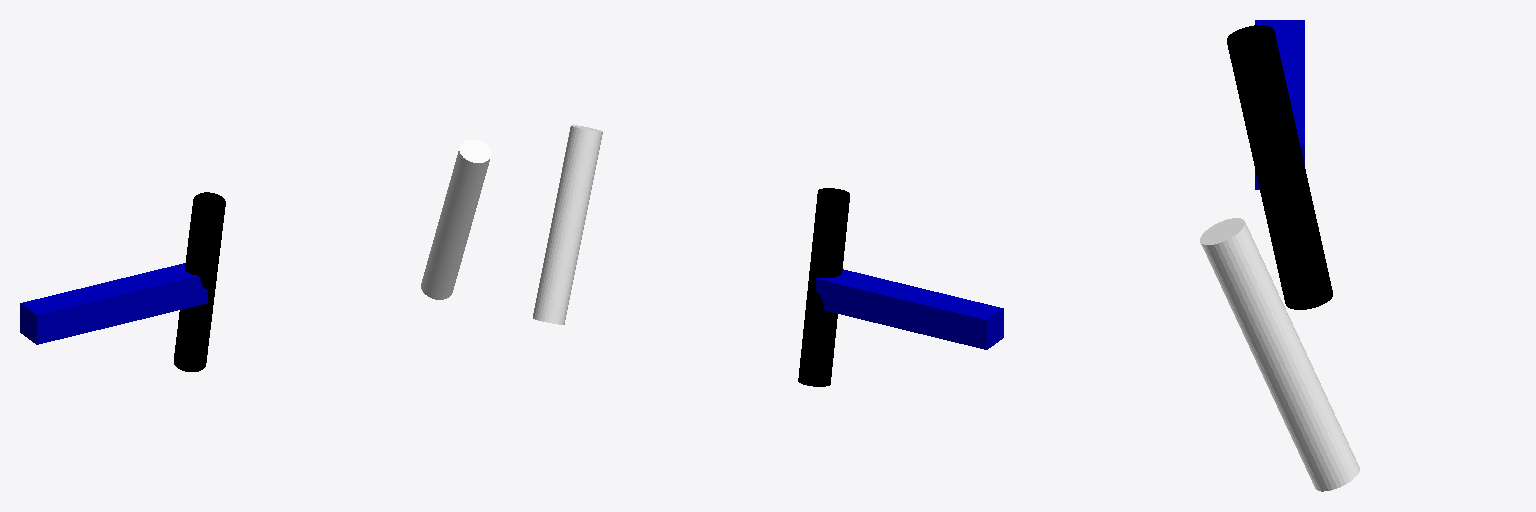
The robot description file, URDF, robot "2_R_robot":
<?xml version="1.0"?>
<robot name="2_R_robot">
<material name="blue">
    <color rgba="0 0 0.8 1"/>
  </material>
  <material name="black">
    <color rgba="0 0 0 1"/>
  </material>
  <material name="white">
    <color rgba="1 1 1 1"/>
  </material>
    
<link name="fixed_base">
     
    <visual>
	<geometry>
		<box size="0.6 0.1 0.1"/>
	</geometry>
	<material name="blue"/>
    </visual>
    </link>
    
    <link name="link_1">
       <visual>
	   <geometry>
        	<cylinder length="0.6" radius="0.05"/>
      	  </geometry>
	<material name="black"/>
       </visual> 
    </link>

    <link name="link_2">
       <visual>
          <geometry>
        	<cylinder length="0.6" radius="0.05"/>
      	  </geometry>  
	<material name="white"/>
       </visual>         
    </link>
    
  
    <joint name="Revolute_joint_1" type="revolute">
          <parent link="fixed_base"/>
          <child link="link_1"/>
	  <origin xyz="0.3 0 0"/>
	  <limit lower = "0.2" upper = "0.2" effort="0.1" velocity="0.005"/>
	  <axis xyz="1 0 0"/>
   
    </joint>
    <joint name="Revolute_joint_2" type="revolute">
	<parent link="link_1"/>
          <child link="link_2"/>
	  <origin xyz="0.9 0 0"/>
	  <limit lower = "0.2" upper = "0.2" effort="0.1" velocity="0.005"/>
	  <axis xyz="1 0 0"/>       

    </joint>
</robot>

--- Facts derived from the render (not from the file) ---
Views: 3 orthographic renders of the robot side by side, from view 1: azimuth 30°, elevation 25°; view 2: azimuth 150°, elevation 25°; view 3: azimuth 270°, elevation 25°.
Model 2_R_robot with 3 links and 2 joints (2 revolute), rooted at fixed_base, posed joints at zero except 2 at the middle of their limits (Revolute_joint_1 = 0.2, Revolute_joint_2 = 0.2).
Visible links, largest first — view 1: fixed_base, link_2, link_1; view 2: fixed_base, link_2, link_1; view 3: link_2, link_1, fixed_base.
Boxes of the visible links, x1=… form: fixed_base: x1=20, y1=263, x2=207, y2=344; link_2: x1=421, y1=140, x2=491, y2=299; link_1: x1=174, y1=192, x2=225, y2=371; fixed_base: x1=816, y1=269, x2=1003, y2=349; link_2: x1=533, y1=125, x2=602, y2=324; link_1: x1=798, y1=188, x2=849, y2=386; link_2: x1=1200, y1=218, x2=1359, y2=491; link_1: x1=1227, y1=25, x2=1332, y2=309; fixed_base: x1=1255, y1=20, x2=1304, y2=189.
Size in the robot's own frame: 1.55 by 0.3258 by 0.6079 metres.
Geometry: primitives only (box / cylinder / sphere), no mesh files.